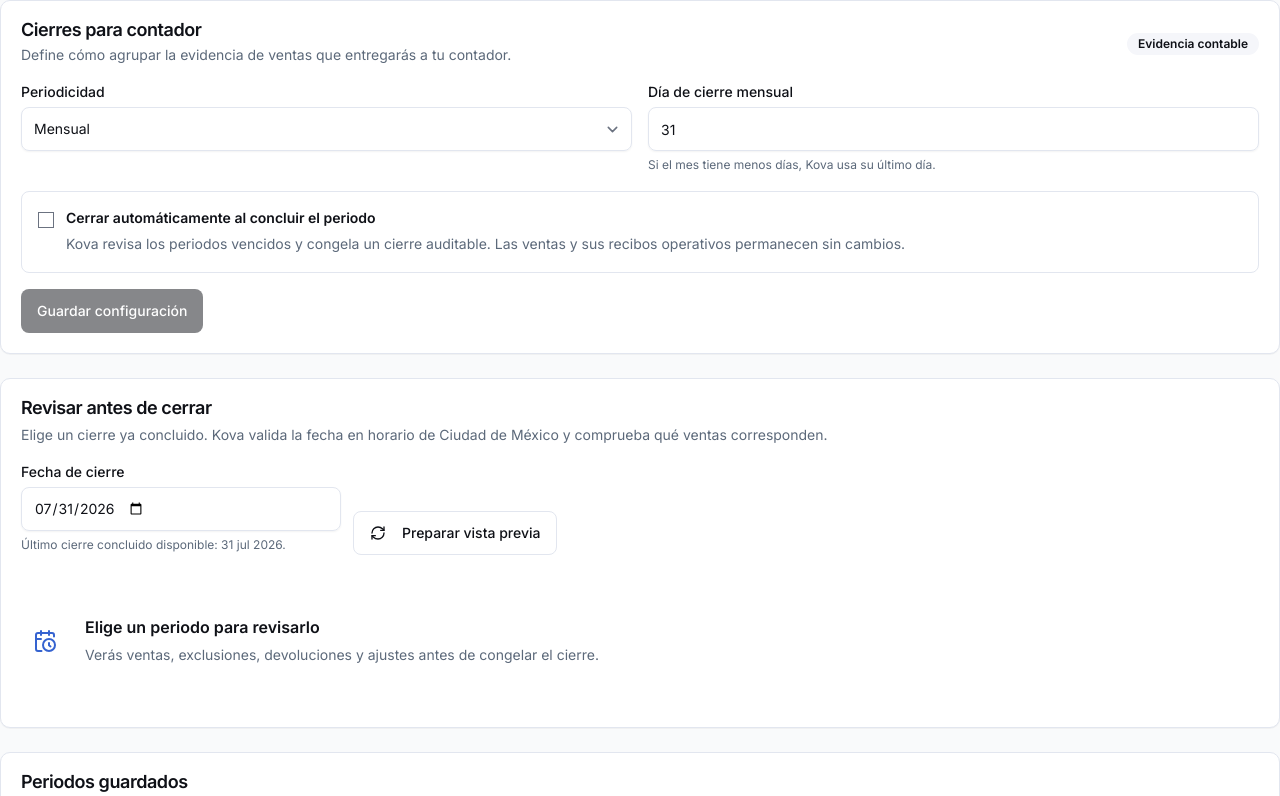
Test: FiscalGlobalDraftsPanel › blocks the incident date inline without making a preview request
The width and height of the screenshot is (1280, 796).
Step 1. Type "2026-07-16" into the date field labelled "Fecha de cierre" → [181, 509], box [21,487,341,531]
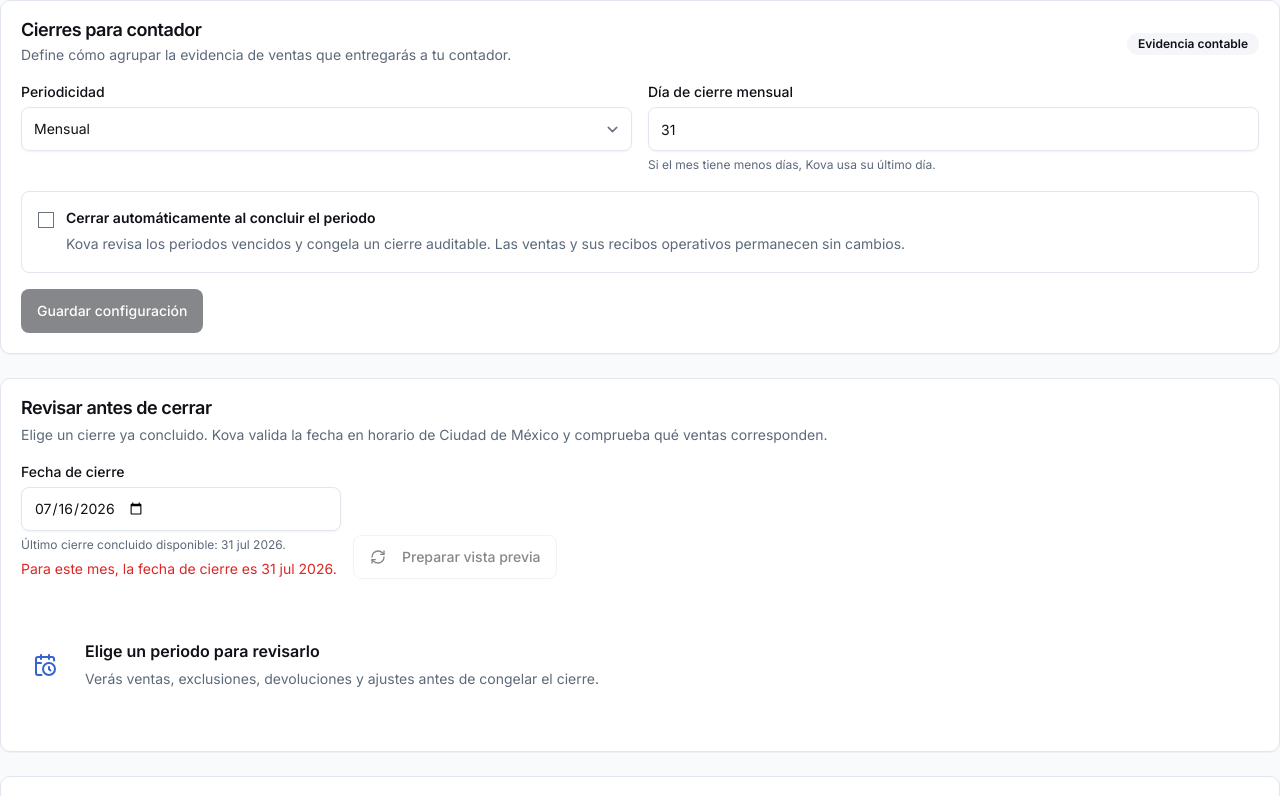
expect the message reads "Para este mes, la fecha de cierre es 31 jul 2026.": met, box [21,560,337,577]
expect the button "Preparar vista previa" is disabled: met, box [353,535,558,579]
